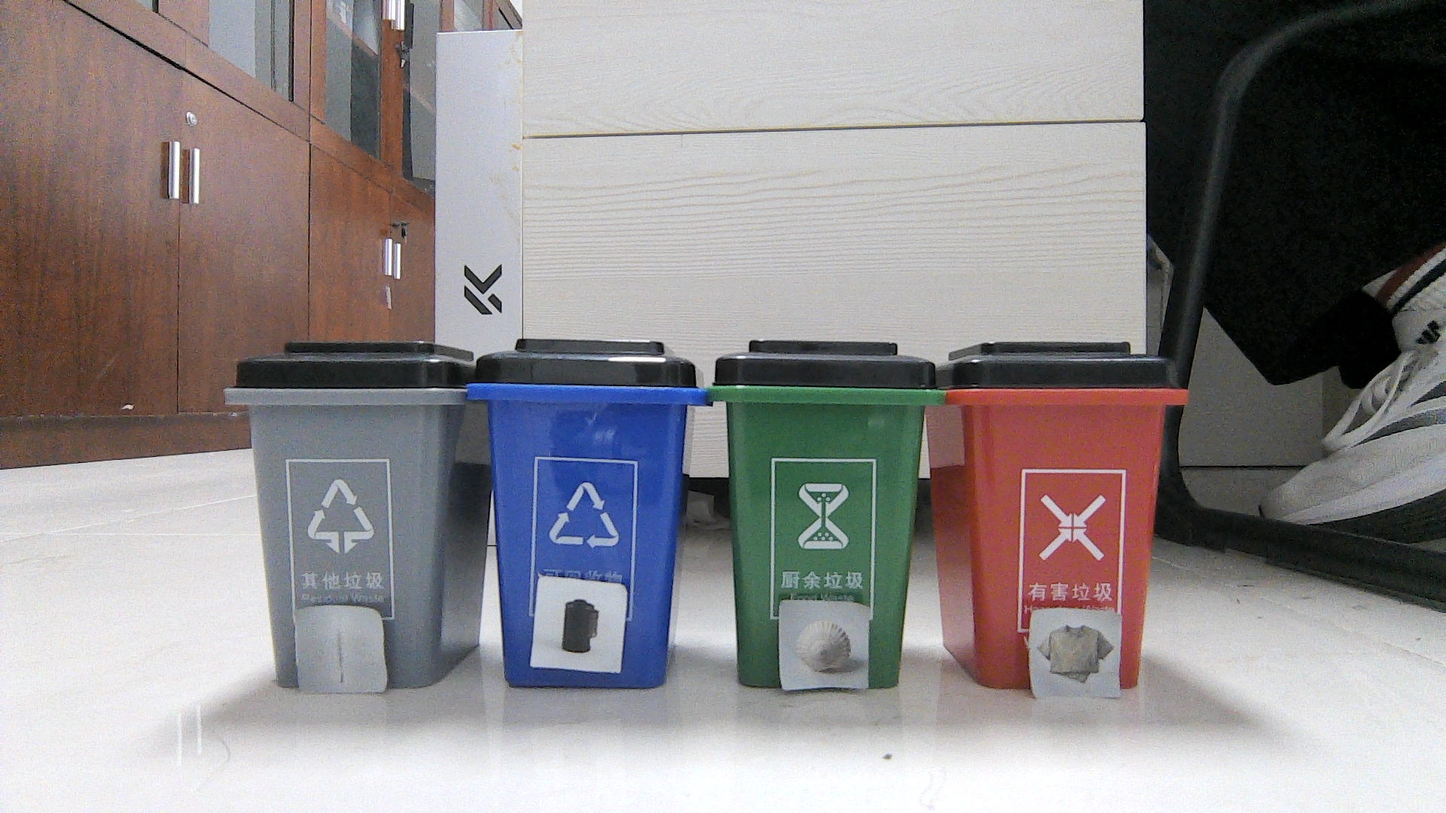hazardous_trash: (300, 612, 378, 690), (545, 583, 615, 665)
other_trash: (785, 601, 868, 688)
recyclable_trash: (1034, 611, 1120, 690)
